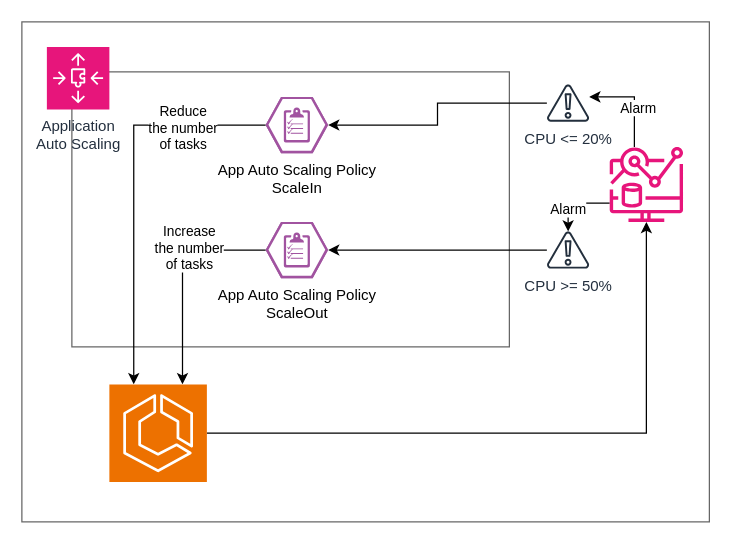
Image size: 731x544. Some labels were removed from this diagram. The box of each missing label's shape, as (x1, y1, x2, y2) in pixels:
CloudWatch: (609, 146, 683, 221)
ECS: (108, 383, 207, 482)
